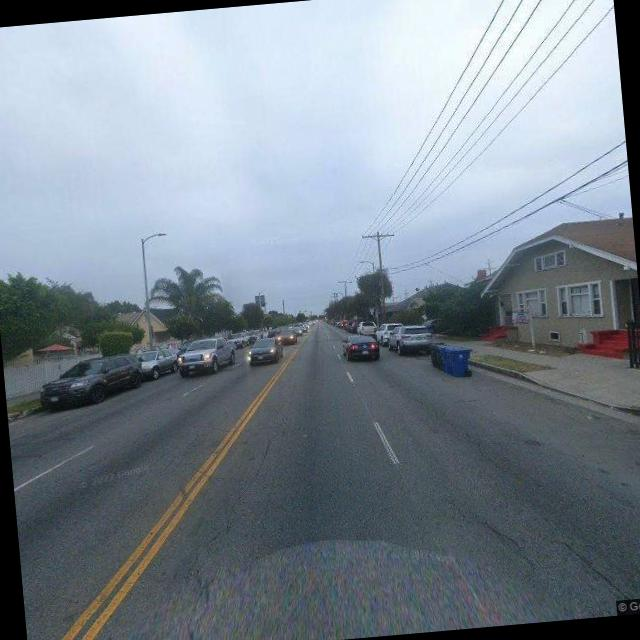pothole: (443, 494, 538, 576), (554, 531, 632, 605)
